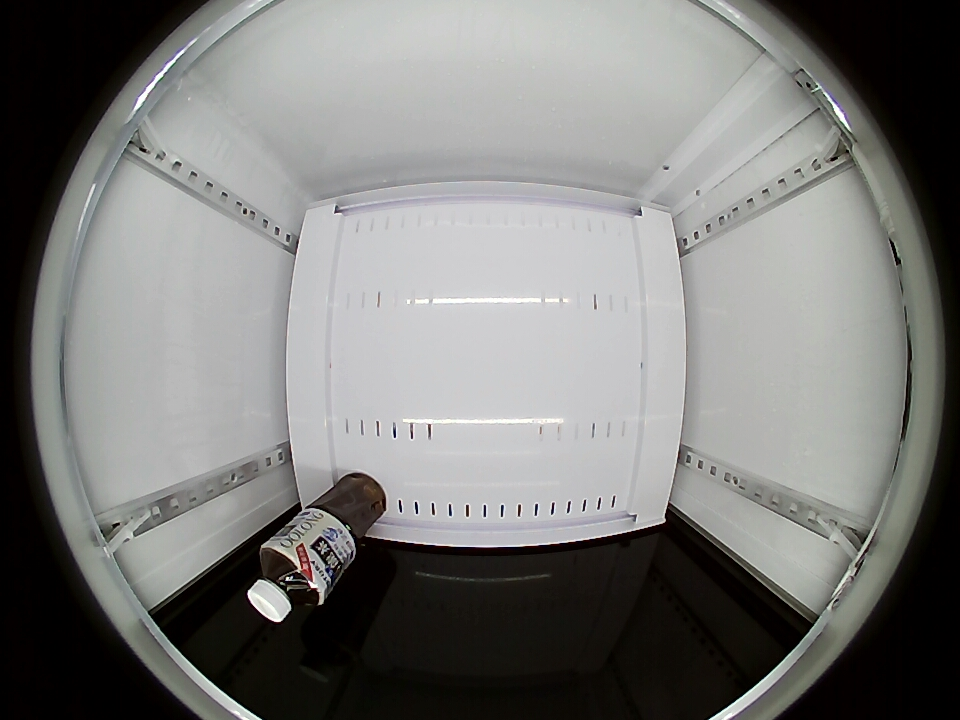wulongcha: (247, 537, 328, 623)
